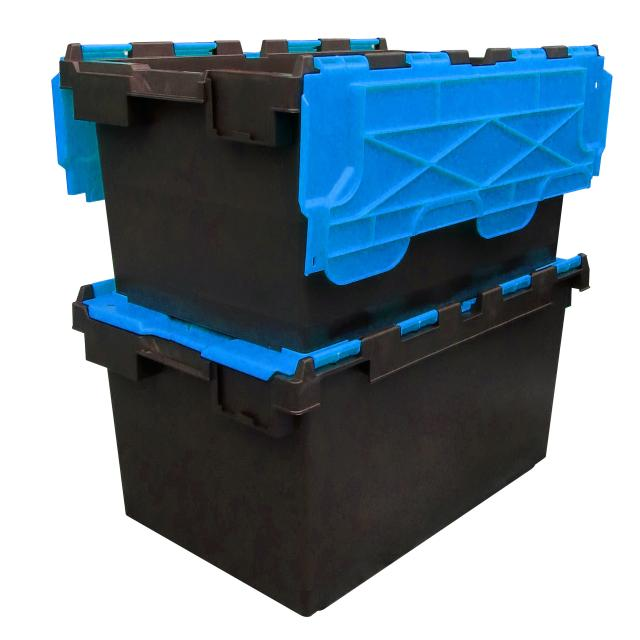basket: (52, 30, 626, 622)
